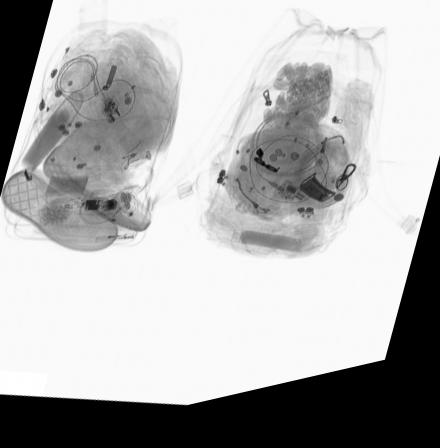Lighter: (94, 237, 134, 246)
